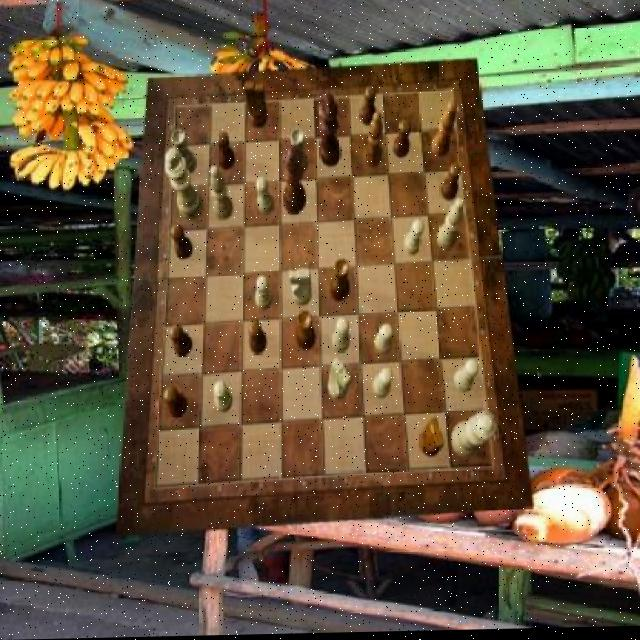bishop: (431, 103, 455, 158), (362, 112, 382, 170)
black-bishop: (319, 93, 342, 169)
black-king: (243, 83, 266, 130), (419, 420, 443, 460)
black-knight: (170, 324, 192, 359), (170, 224, 192, 259), (440, 164, 460, 202), (163, 388, 186, 420), (248, 320, 268, 355), (393, 121, 411, 159), (360, 87, 376, 128), (218, 133, 235, 171)
black-pawn: (283, 146, 306, 215)
black-queen: (329, 260, 349, 303), (294, 313, 314, 353)
black-rook: (438, 200, 464, 253), (210, 166, 232, 221)
white-bishop: (165, 149, 203, 222)
white-king: (328, 359, 350, 402), (290, 270, 312, 308)
white-knight: (452, 361, 477, 395), (403, 222, 423, 257), (256, 178, 274, 216), (372, 370, 392, 401), (374, 325, 394, 356), (255, 277, 272, 312), (332, 319, 349, 353), (215, 382, 232, 415)
white-pawn: (451, 412, 495, 460)
white-queen: (171, 131, 197, 177), (288, 130, 308, 176)
